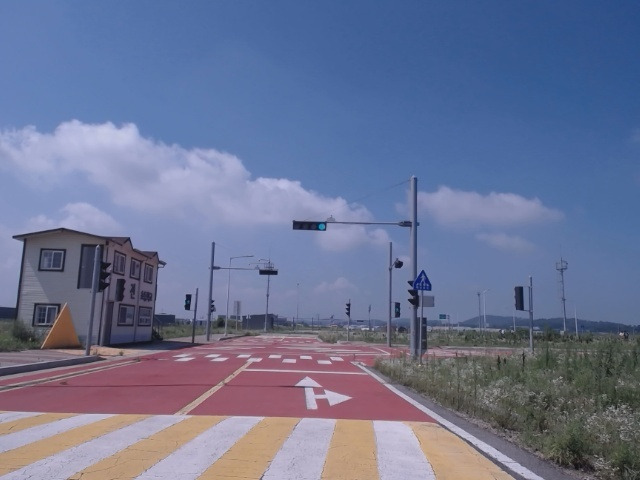straight_green_4: (293, 222, 326, 231)
